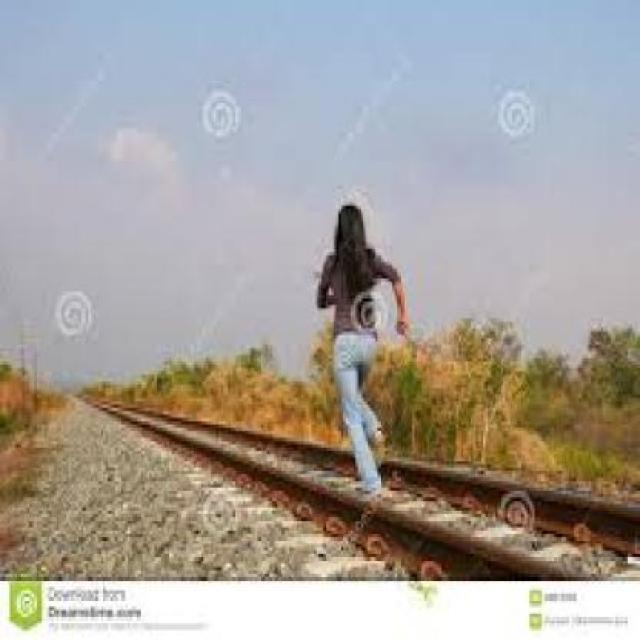danger: (334, 196, 402, 507)
rail: (68, 385, 632, 576)
